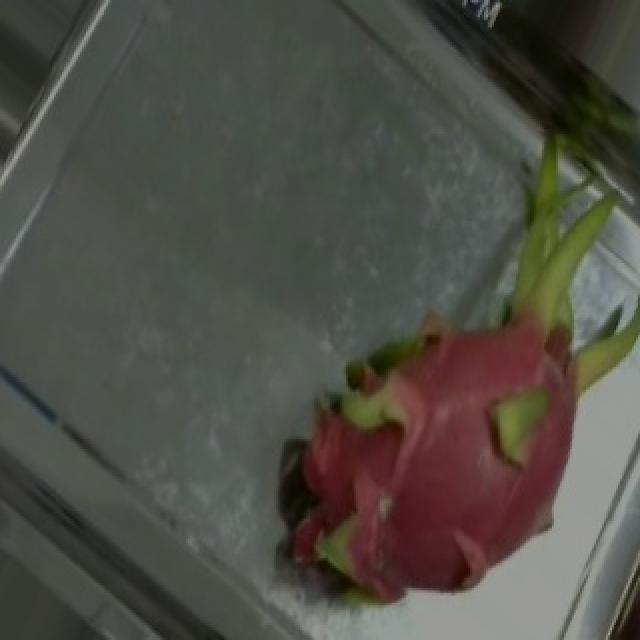fruit: (222, 168, 640, 632)
